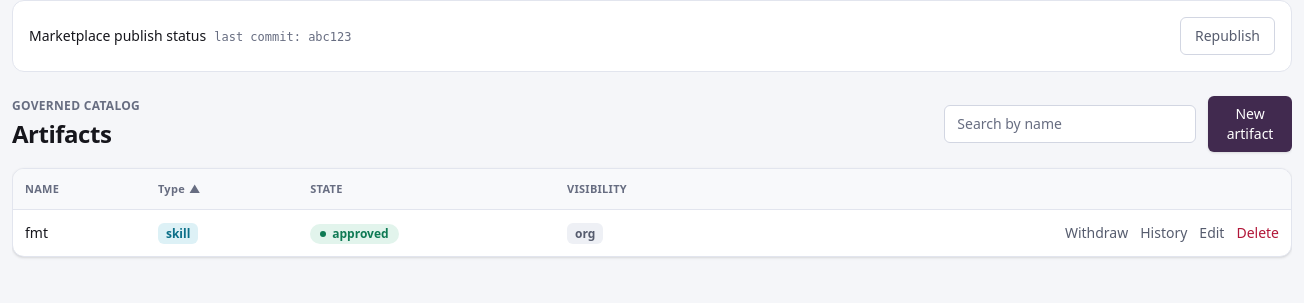
a failing delete surfaces its error near the heading (not silently discarded)
The width and height of the screenshot is (1304, 303).
Expected: the text "fmt" is shown, [13,209,146,256]
Click the button "delete ".
click(1258, 233)  # box [1236,223,1279,243]
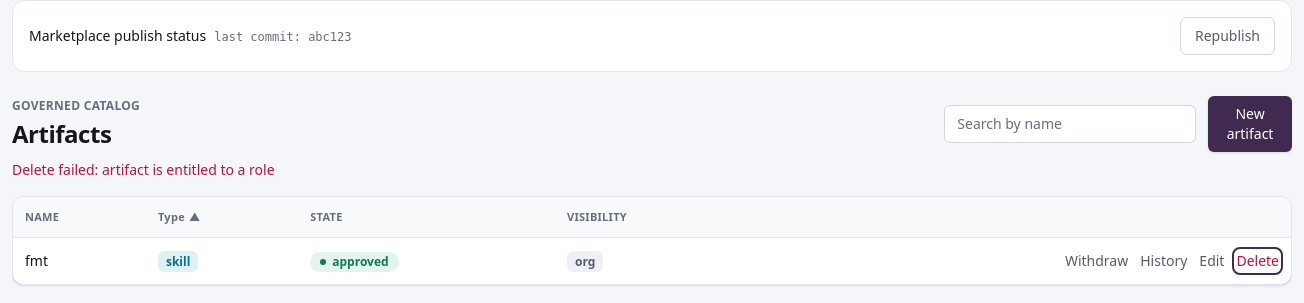
Expected: the text "Delete failed: artifact is entitled to a role" is shown, [12,160,274,179]
